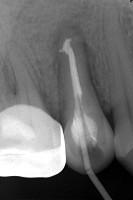Furcation Involvement: (51, 20, 104, 100)
